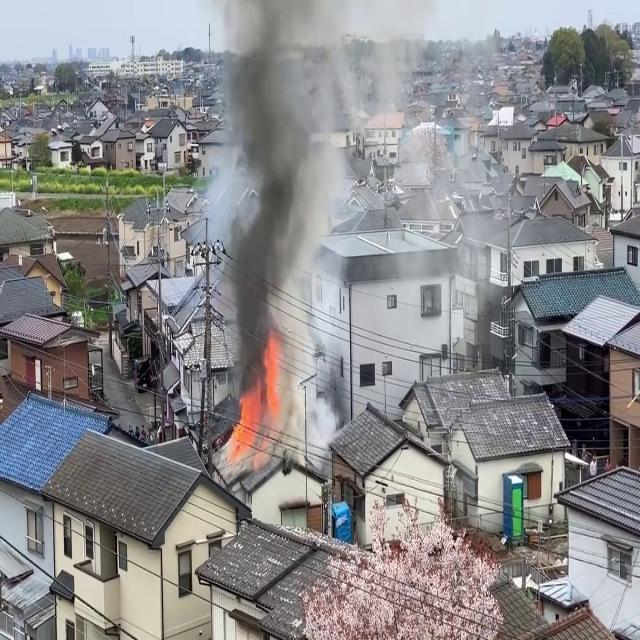Fire: (224, 344, 289, 464)
Smoke: (217, 0, 353, 448)
